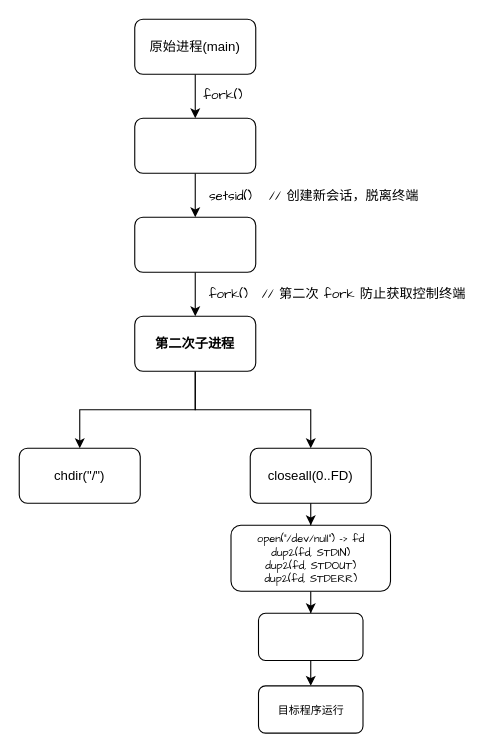
Some shapes in this 493 by 752 pixel diagram are drawn without their labels. Each missing label, with the box of its shape:
execv (argv[1], argv + 1);: (257, 612, 363, 661)
成为会话首进程: (134, 216, 256, 272)
第一次子进程: (134, 117, 256, 173)
